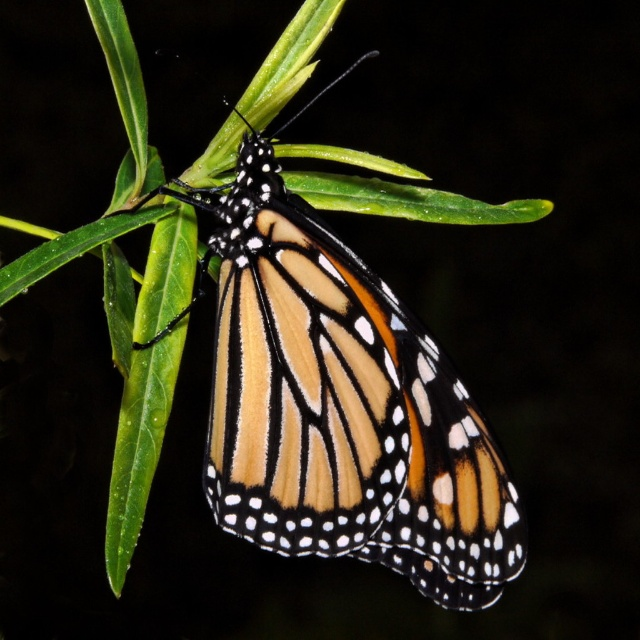Butterfly: (117, 88, 552, 621)
